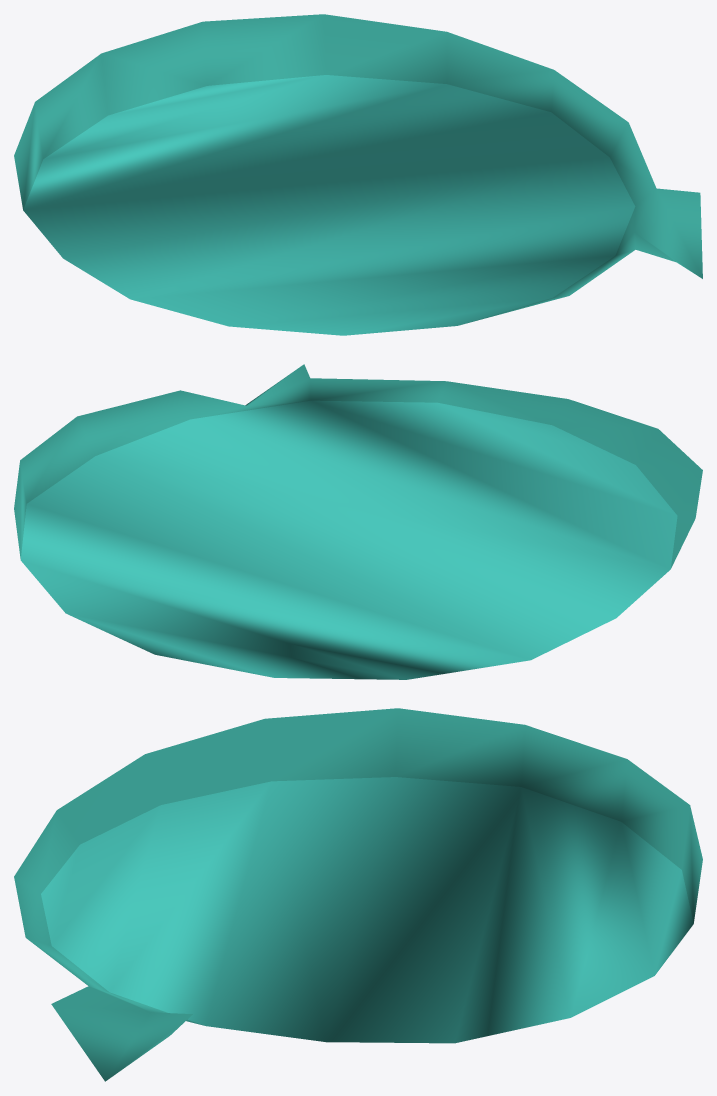
File: RaveCaveGeyserInnerC.glb
3 views of the same model, one above another, from view 1: azimuth 30°, elevation 25°; view 2: azimuth 150°, elevation 25°; view 3: azimuth 270°, elevation 25° (orthographic). The views are drawn at different scales.
Parts seen in each view (by area): view 1: RaveCaveGeyserInnerC; view 2: RaveCaveGeyserInnerC; view 3: RaveCaveGeyserInnerC.
Part boxes in pixels (bbox=[...]): RaveCaveGeyserInnerC: bbox=[14, 14, 702, 335]; RaveCaveGeyserInnerC: bbox=[14, 364, 702, 679]; RaveCaveGeyserInnerC: bbox=[14, 708, 702, 1081].
Bounding box in the file's own units: 4.18 × 0.7519 × 4.27.
